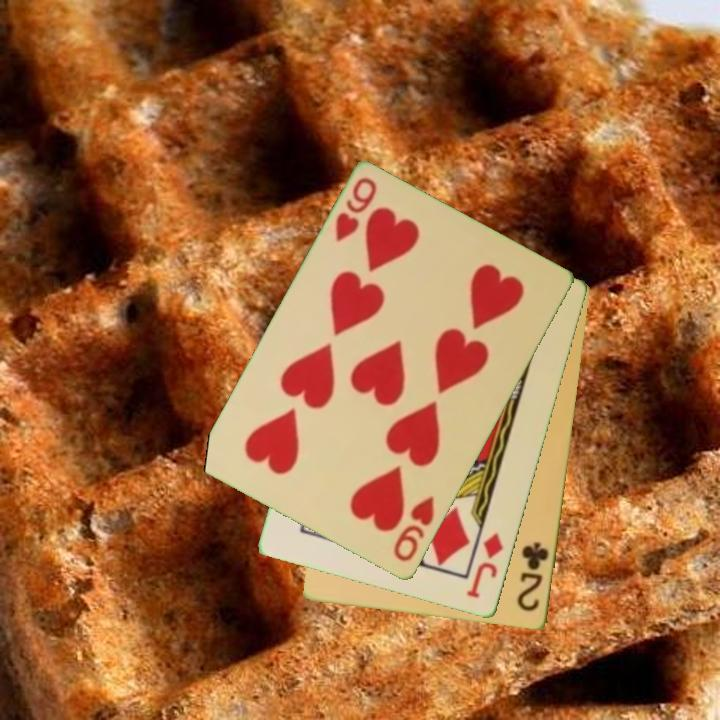2c: (514, 538, 552, 615)
9h: (390, 493, 438, 565), (332, 174, 380, 246)
Jd: (463, 529, 507, 602)
